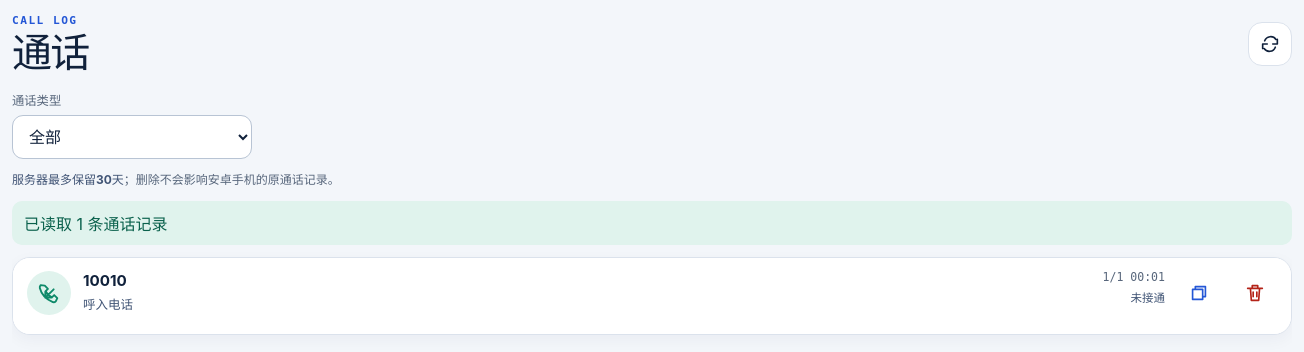
Test case: CallsView › 权威刷新更新同一通话记录的类型和时长
This screenshot has width=1304, height=352.
Expected: the text "未接通" is shown, x1=1130 y1=292 x2=1165 y2=306
What coordinates should you click on to do the following:
click the button named "刷新通话记录"
I would click on:
 (1270, 44)
Its box is x1=1248 y1=22 x2=1292 y2=66.
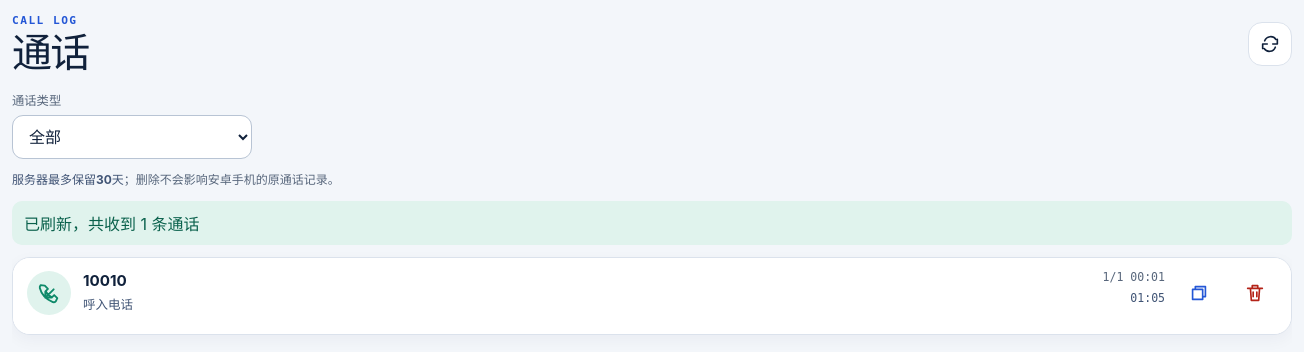
Now the text "01:05" is shown, box x1=1130 y1=292 x2=1165 y2=306
Now the text "未接通" is gone
